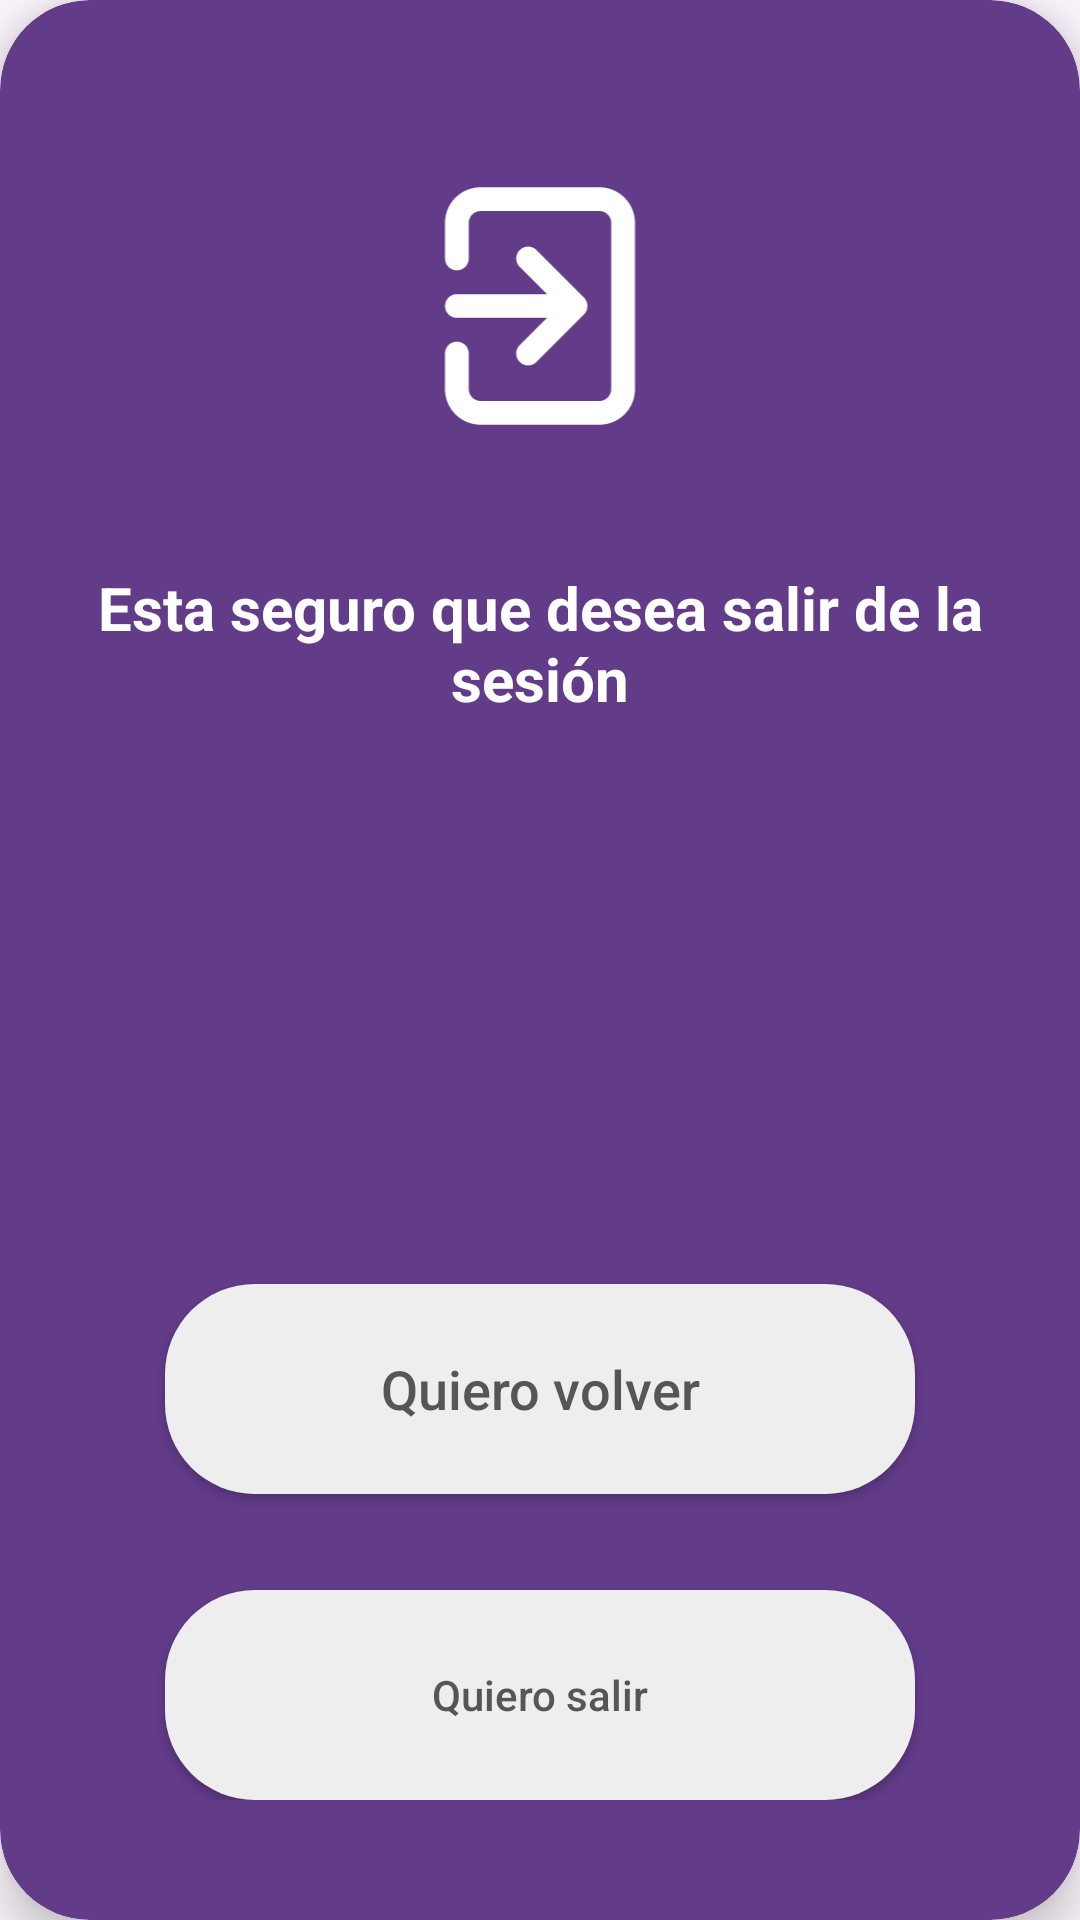

Icons on this 1080px x 1920px Android screen, each with its box as (x1, y1, x2, y2):
SIGN IN: (444, 187, 636, 425)
